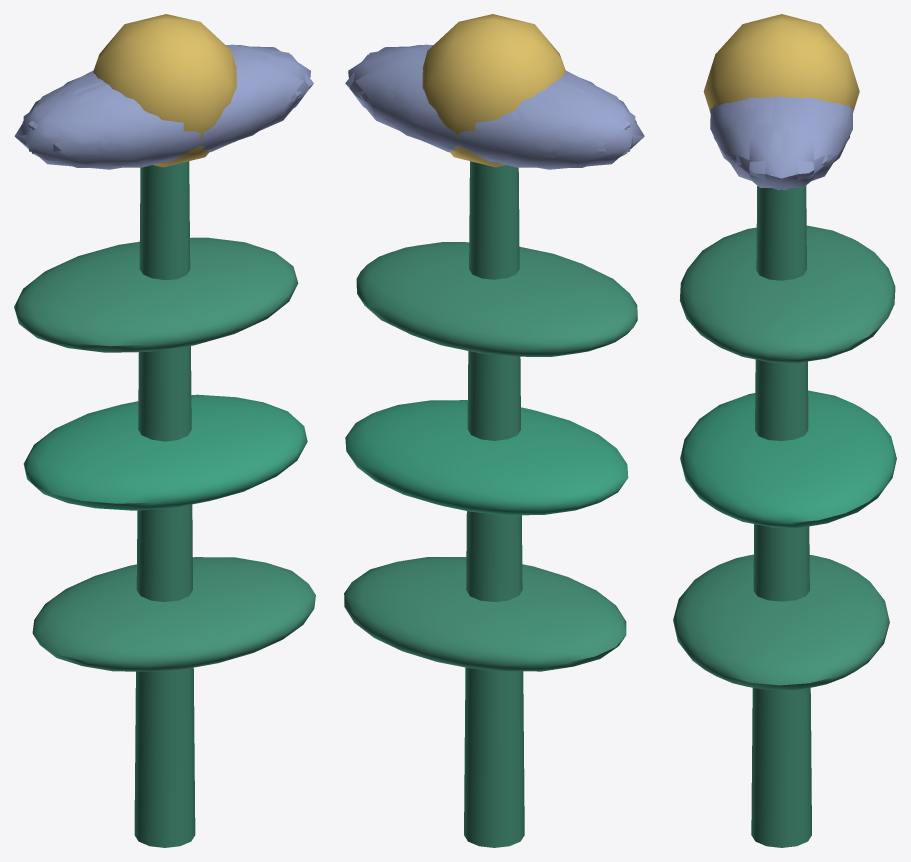
Rendered from muehlenbeckia-gracillima.glb.
3 renders of one model, left to right at view 1: azimuth 30°, elevation 25°; view 2: azimuth 150°, elevation 25°; view 3: azimuth 270°, elevation 25°, orthographic.
Parts seen in each view (by area): view 1: stem, leaf2, leaf1, leaf0, center, petal6, petal2, petal1, petal5, petal7, petal0; view 2: stem, leaf2, leaf1, leaf0, center, petal3, petal7, petal8, petal4, petal2, petal0; view 3: stem, leaf1, leaf0, leaf2, center, petal0, petal5, petal4, petal1, petal8.
Part boxes in pixels (x1=…): stem: x1=134, y1=161, x2=195, y2=847; leaf2: x1=14, y1=237, x2=298, y2=352; leaf1: x1=23, y1=394, x2=307, y2=510; leaf0: x1=32, y1=557, x2=315, y2=671; center: x1=93, y1=14, x2=236, y2=167; petal6: x1=31, y1=83, x2=223, y2=167; petal2: x1=23, y1=78, x2=171, y2=169; petal1: x1=99, y1=63, x2=296, y2=165; petal5: x1=160, y1=53, x2=313, y2=158; petal7: x1=14, y1=73, x2=111, y2=161; petal0: x1=230, y1=46, x2=310, y2=141; stem: x1=464, y1=161, x2=524, y2=847; leaf2: x1=356, y1=242, x2=637, y2=356; leaf1: x1=345, y1=400, x2=628, y2=515; leaf0: x1=344, y1=557, x2=626, y2=671; center: x1=422, y1=14, x2=565, y2=167; petal3: x1=435, y1=83, x2=627, y2=167; petal7: x1=487, y1=78, x2=635, y2=169; petal8: x1=362, y1=63, x2=560, y2=165; petal4: x1=345, y1=53, x2=498, y2=158; petal2: x1=547, y1=73, x2=644, y2=161; petal0: x1=348, y1=46, x2=428, y2=141; stem: x1=751, y1=185, x2=811, y2=847; leaf1: x1=680, y1=390, x2=896, y2=527; leaf0: x1=673, y1=554, x2=889, y2=690; leaf2: x1=679, y1=225, x2=895, y2=362; center: x1=703, y1=14, x2=859, y2=110; petal0: x1=724, y1=96, x2=839, y2=187; petal5: x1=713, y1=97, x2=793, y2=190; petal4: x1=770, y1=97, x2=849, y2=190; petal1: x1=710, y1=97, x2=758, y2=162; petal8: x1=804, y1=97, x2=852, y2=163.
Bounding box in the file's own units: 0.1541 × 0.4143 × 0.1032.
